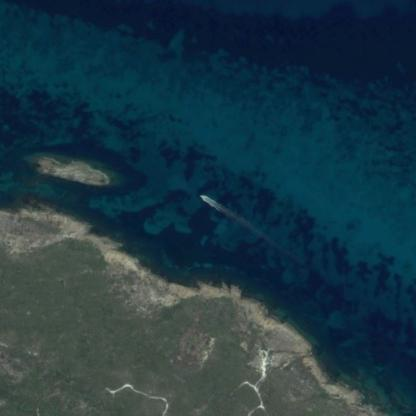ship: (192, 188, 214, 206)
